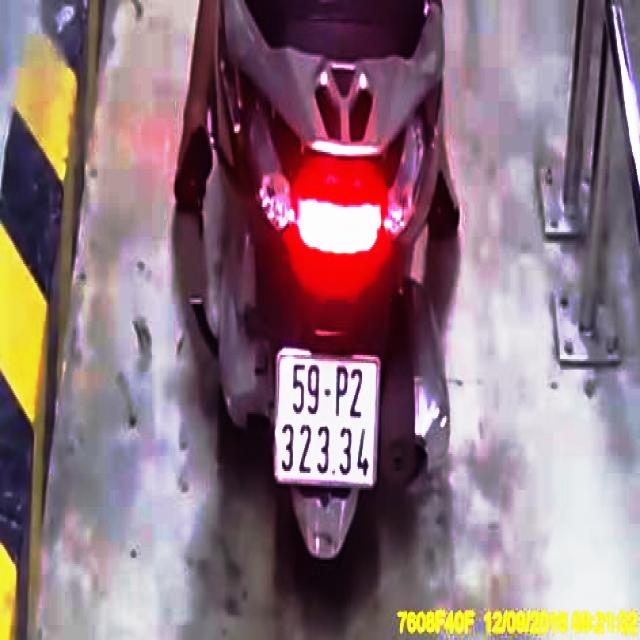license_plate: (278, 351, 379, 487)
